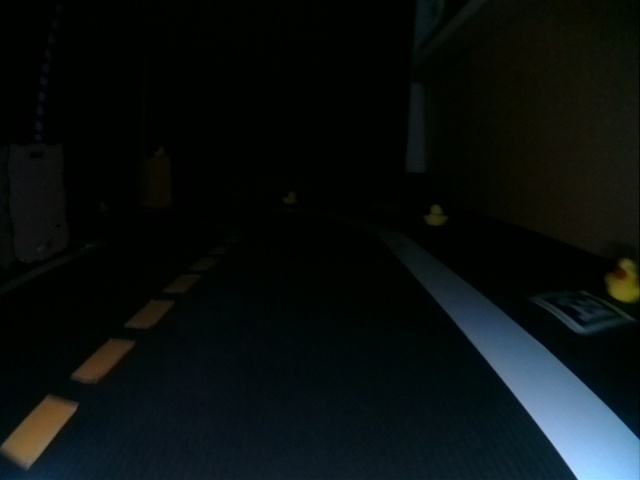Duckie: (607, 258, 637, 302), (422, 203, 447, 226), (282, 191, 297, 205), (154, 146, 164, 156), (99, 202, 109, 211)
QR code: (537, 289, 637, 332)
